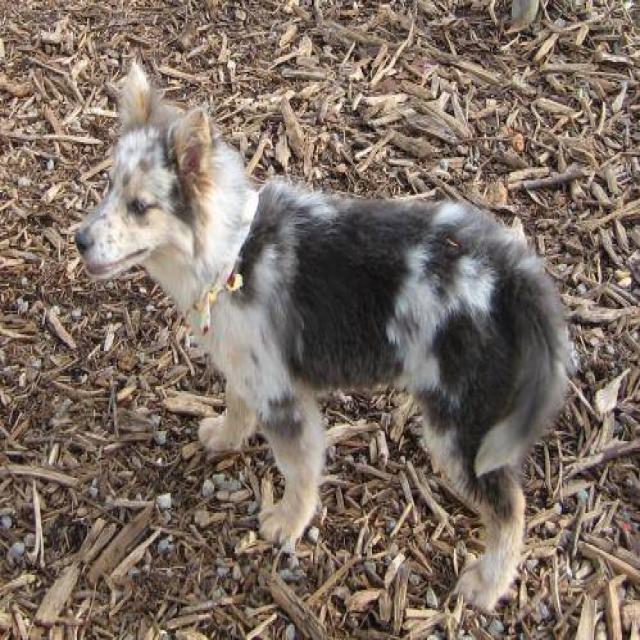dog: (73, 60, 576, 613)
